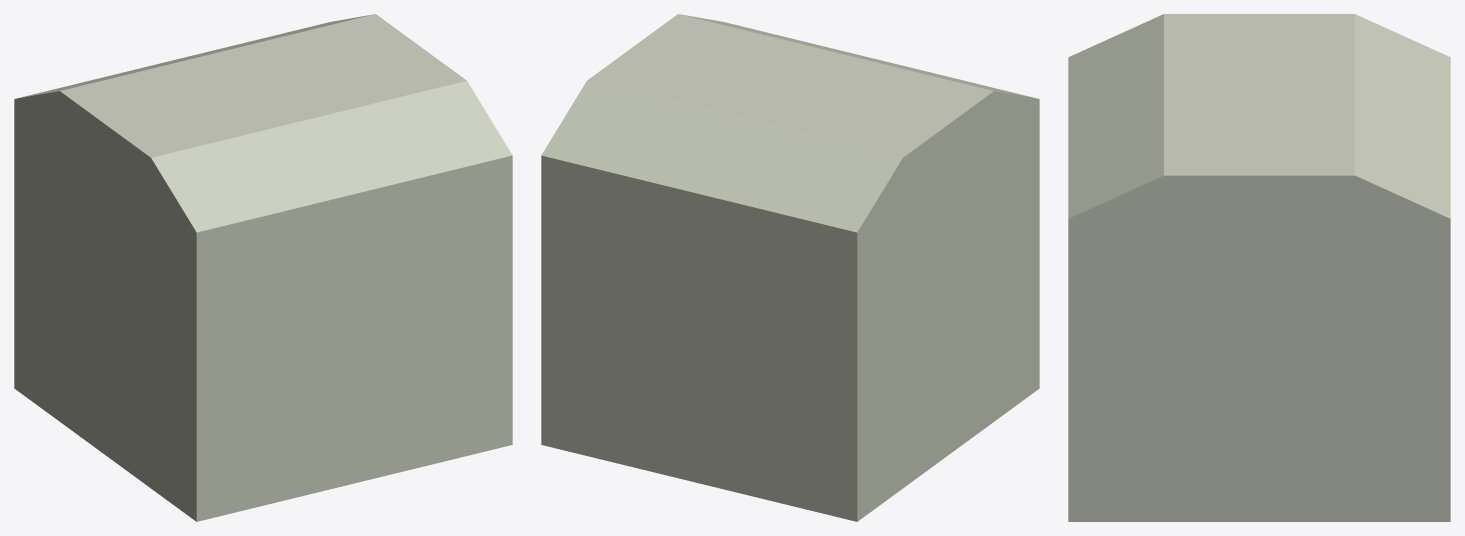
Rendered from tm_machine.obj.
3 views of the same model, side by side, from view 1: azimuth 30°, elevation 25°; view 2: azimuth 150°, elevation 25°; view 3: azimuth 270°, elevation 25° (orthographic). The views are drawn at different scales.
Parts seen in each view (by area): view 1: cube; view 2: cube; view 3: cube.
Boxes of the visible parts, x1,y1,x2,y2 form: cube: (14, 14, 512, 521); cube: (541, 14, 1039, 521); cube: (1068, 14, 1450, 521).
Size of the model in its own units: 1 by 1 by 1.
